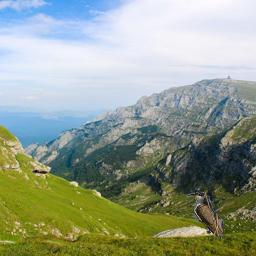Cuckoo: (178, 192, 224, 239)
